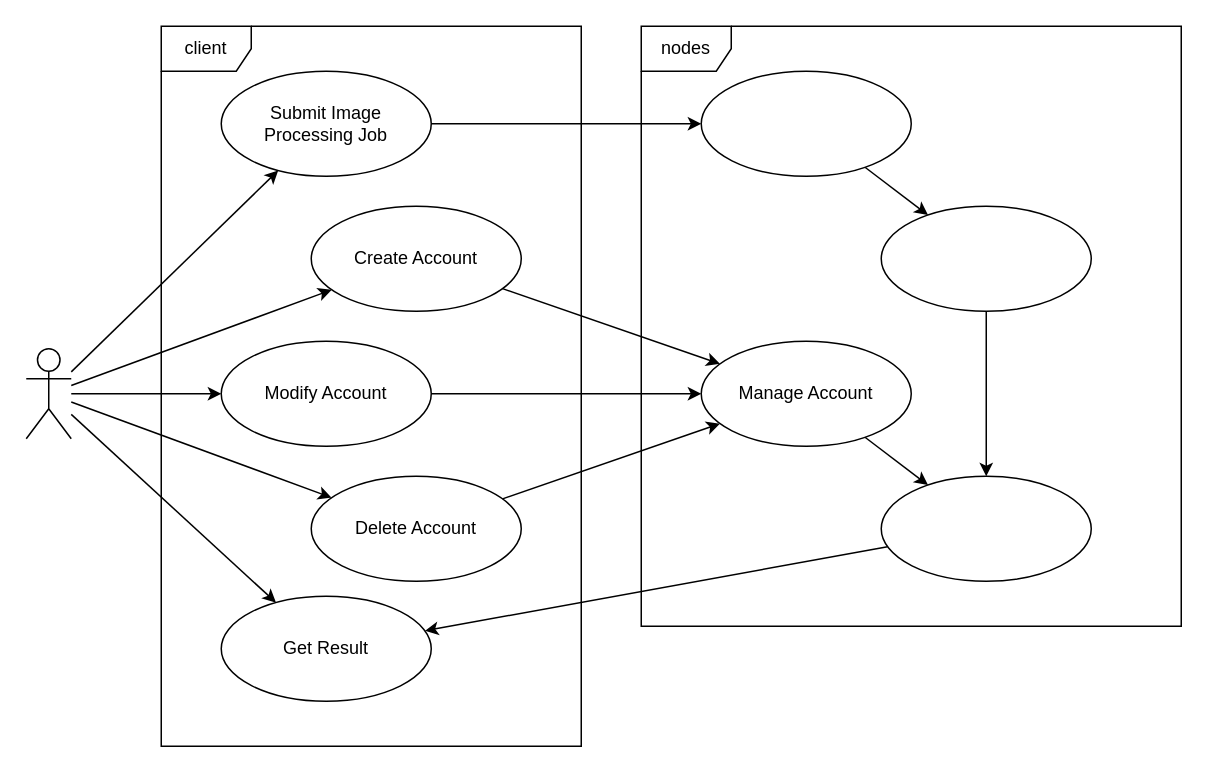
This 1208x773 diagram has some shape labels left out. The centre of each missing label's shape, as x and y in pixels:
Find Free Node: the point at 805,123
Process Job: the point at 985,258
Return Result: the point at 985,528
User: the point at 48,393
